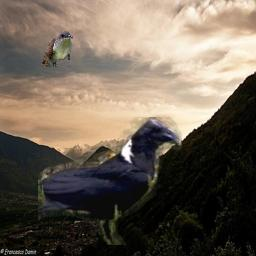Crow: (38, 117, 182, 245)
Cuckoo: (42, 31, 73, 67)
